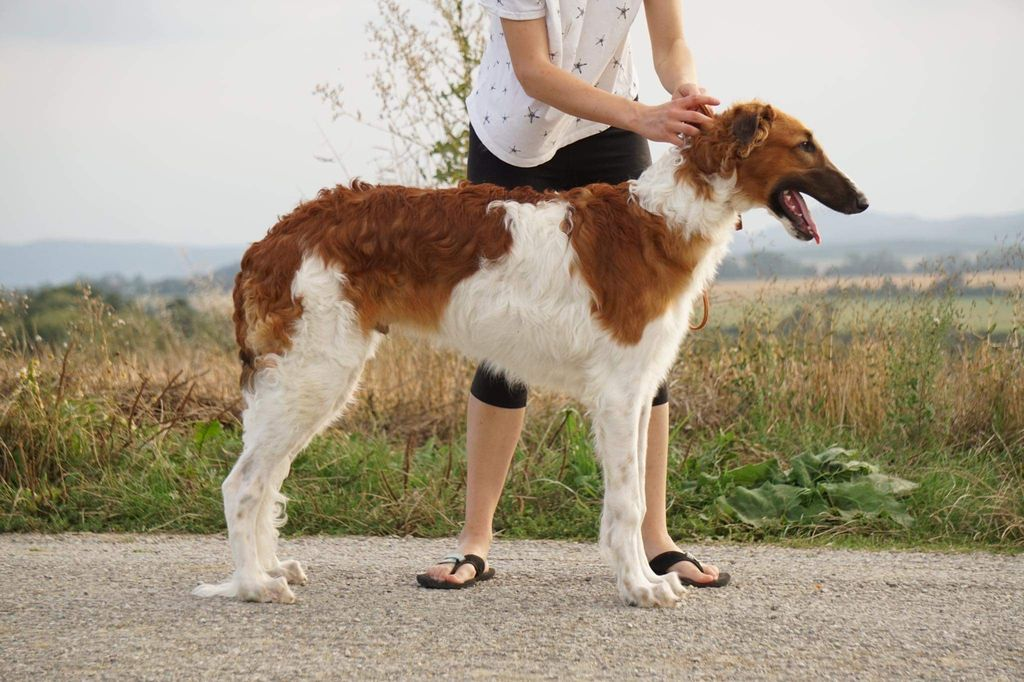borzoi: (190, 90, 904, 616)
